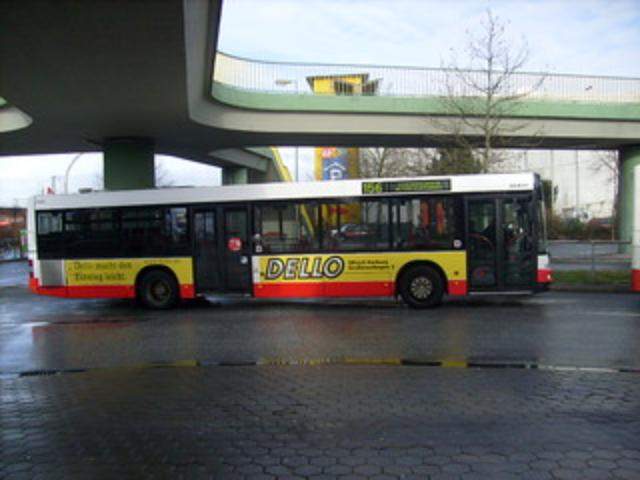bus: (24, 168, 554, 308)
